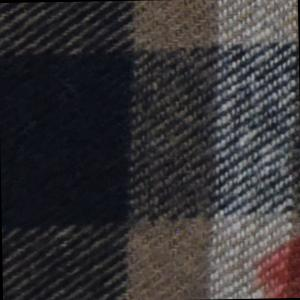Stain: (253, 236, 300, 299)
